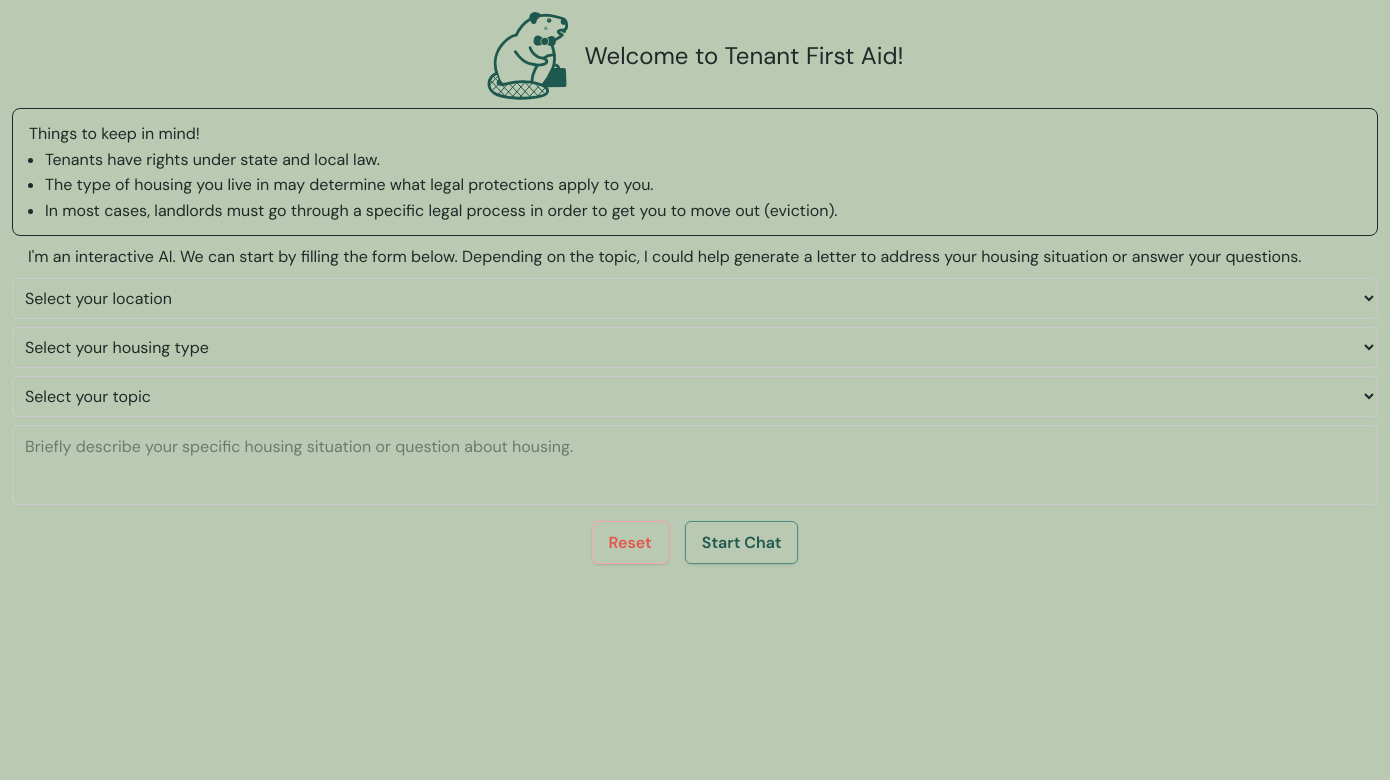
Scenario: InitializationForm › disables submit when city is "other"
Expected: the button with aria-label "enter chat" is enabled, left=685, top=521, right=798, bottom=564
Select "City in another state" in the 1st dropdown named "city" at (695, 298), box left=12, top=278, right=1378, bottom=319
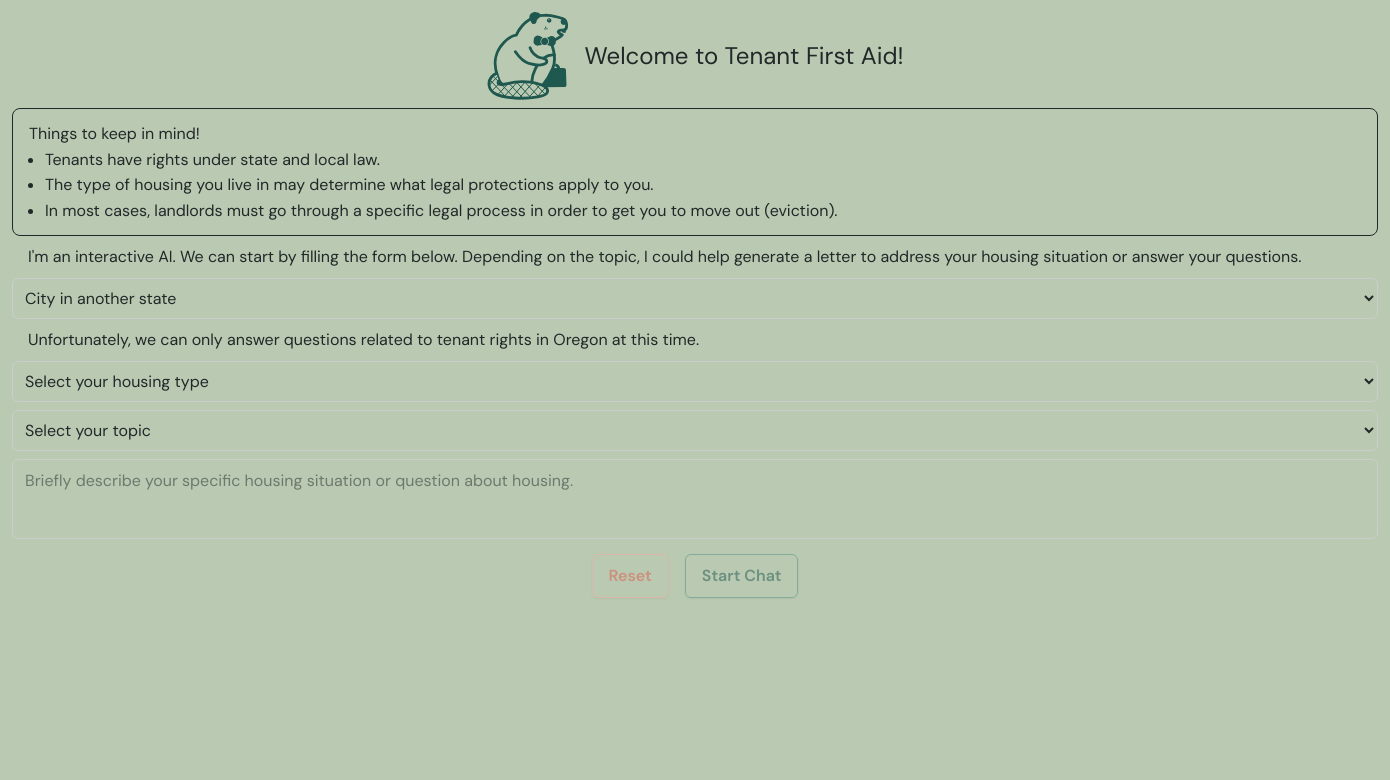
Expected: the button with aria-label "enter chat" is disabled, left=685, top=554, right=798, bottom=598
